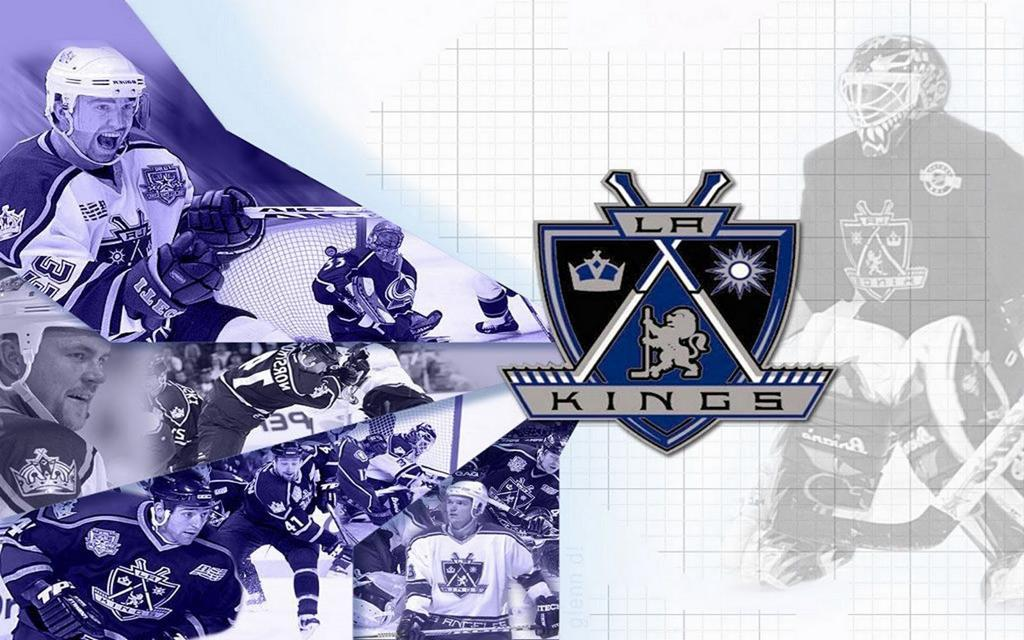face: (18, 310, 110, 429), (69, 94, 132, 164), (857, 64, 910, 134), (166, 500, 211, 546), (447, 489, 472, 524), (278, 455, 299, 480), (543, 450, 563, 475), (310, 361, 335, 378), (376, 239, 394, 261), (194, 465, 209, 479)
